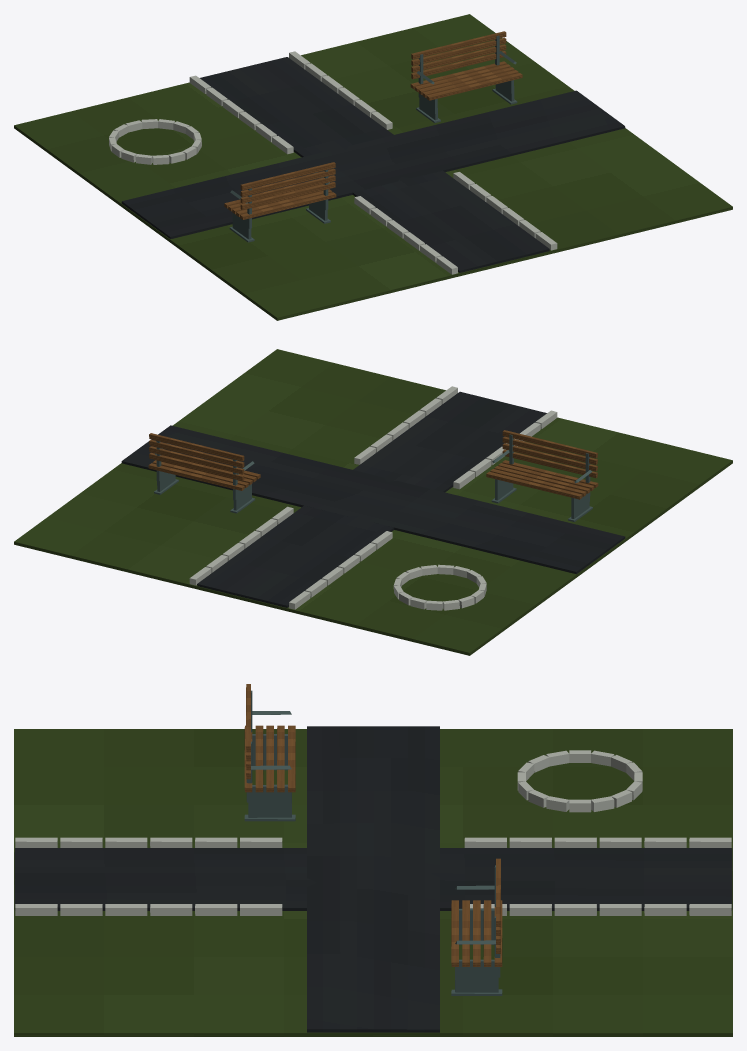
3 renders of one model, top to bottom at view 1: azimuth 30°, elevation 25°; view 2: azimuth 150°, elevation 25°; view 3: azimuth 270°, elevation 25°, orthographic. The views are drawn at different scales.
Visible parts, largest first — view 1: static_park_planted_ground, static_park_cross_walk, static_park_main_walk, static_bench_back_slat_003, static_bench_back_slat_002, static_bench_back_slat, static_bench_back_slat_001, static_bench_back_slat_007, static_bench_seat_slat_009, static_bench_back_slat_005, static_bench_back_slat_006, static_bench_seat_slat (+1 smaller); view 2: static_park_planted_ground, static_park_cross_walk, static_park_main_walk, static_bench_back_slat_007, static_bench_back_slat_005, static_bench_back_slat_006, static_bench_back_slat_004, static_bench_back_slat_003, static_bench_seat_slat_004, static_bench_back_slat_002, static_bench_back_slat_001, static_bench_seat_slat_005 (+1 smaller); view 3: static_park_planted_ground, static_park_cross_walk, static_park_main_walk, static_bench_cast_iron_leg_002, static_bench_cast_iron_leg_001, static_bench_seat_slat_001.
Boxes of the visible parts, x1,y1,x2,y2 form: static_park_planted_ground: [14, 14, 732, 320]; static_park_cross_walk: [121, 90, 625, 239]; static_park_main_walk: [200, 57, 549, 272]; static_bench_back_slat_003: [240, 162, 335, 190]; static_bench_back_slat_002: [240, 168, 335, 196]; static_bench_back_slat: [240, 182, 335, 210]; static_bench_back_slat_001: [240, 175, 335, 203]; static_bench_back_slat_007: [411, 31, 506, 59]; static_bench_seat_slat_009: [426, 73, 522, 100]; static_bench_back_slat_005: [411, 44, 506, 72]; static_bench_back_slat_006: [411, 37, 506, 66]; static_bench_seat_slat: [240, 192, 336, 219]; static_park_planted_ground: [14, 349, 732, 655]; static_park_cross_walk: [121, 425, 625, 574]; static_park_main_walk: [197, 391, 546, 607]; static_bench_back_slat_007: [149, 433, 244, 461]; static_bench_back_slat_005: [149, 446, 244, 474]; static_bench_back_slat_006: [149, 439, 244, 467]; static_bench_back_slat_004: [149, 452, 244, 480]; static_bench_back_slat_003: [502, 430, 597, 458]; static_bench_seat_slat_004: [486, 471, 582, 499]; static_bench_back_slat_002: [502, 436, 597, 464]; static_bench_back_slat_001: [502, 443, 597, 471]; static_bench_seat_slat_005: [148, 463, 244, 490]; static_park_planted_ground: [14, 729, 732, 1036]; static_park_cross_walk: [307, 726, 439, 1032]; static_park_main_walk: [14, 848, 732, 910]; static_bench_cast_iron_leg_002: [455, 959, 498, 992]; static_bench_cast_iron_leg_001: [248, 784, 291, 817]; static_bench_seat_slat_001: [255, 725, 263, 792].
Size of the model in its own units: 8 by 1.01 by 8.
5 materials, 3 textured.
